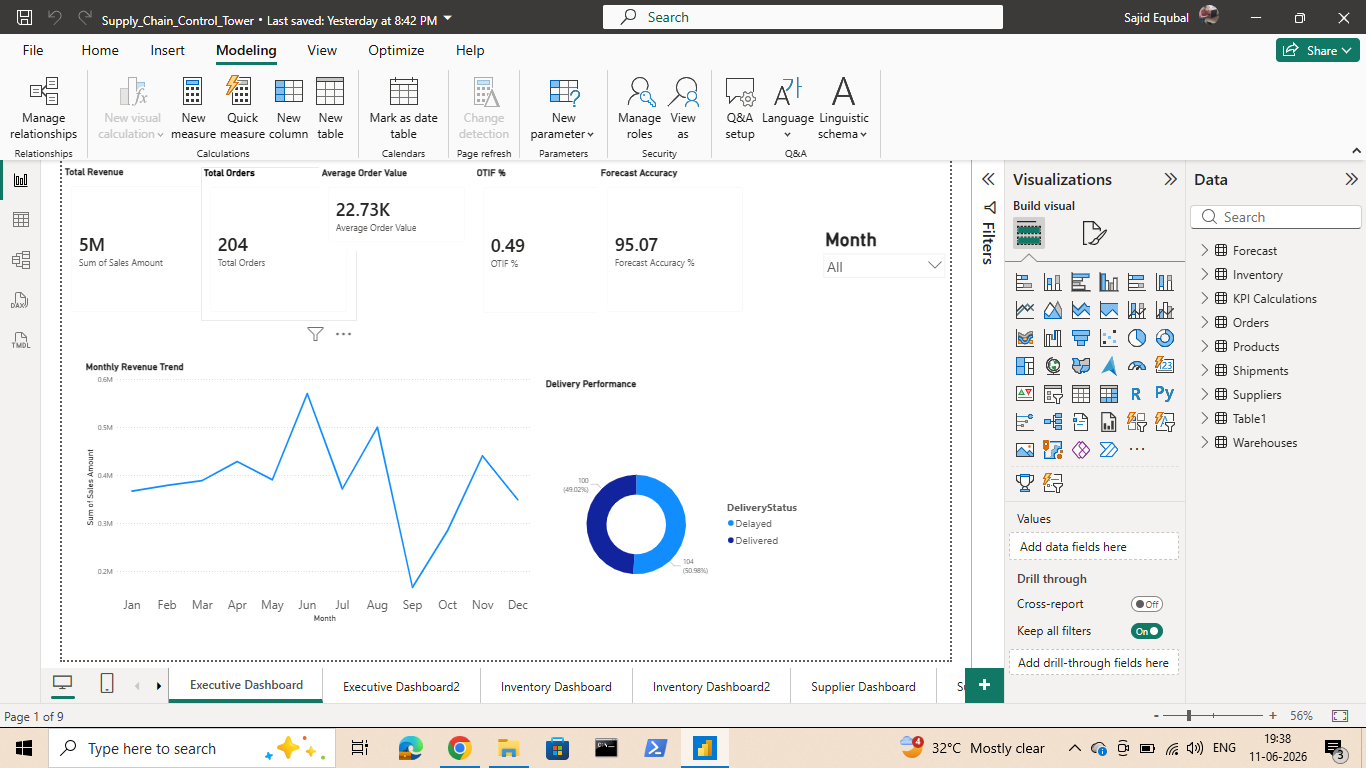

The dashboard page shown, as its layout file describes it:
{"tool":"powerbi","page":{"name":"Executive Dashboard ","canvas":[1600,900],"ordinal":0},"visuals":[{"type":"cardVisual","title":"Total Revenue","fields":{"Data":["Sum(Orders.Sales Amount)"]},"box":[0,10.1,280.5,280.5],"z":0},{"type":"cardVisual","title":"Total Orders","fields":{"Data":["Orders.Total Orders"]},"box":[250.3,11.8,280.5,278.8],"z":1000},{"type":"cardVisual","title":"Average Order Value","fields":{"Data":["Orders.Average Order Value"]},"box":[461.9,11.8,280.5,151.2],"z":2000},{"type":"cardVisual","title":"OTIF %","fields":{"Data":["Orders.OTIF %"]},"box":[742.5,11.8,278.8,280.5],"z":3000},{"type":"cardVisual","title":"Forecast Accuracy","fields":{"Data":["Forecast.Forecast Accuracy %"]},"box":[964.2,11.8,278.8,278.8],"z":4000},{"type":"lineChart","title":"Monthly Revenue Trend","fields":{"Category":["Orders.Month"],"Y":["Sum(Orders.Sales Amount)"]},"box":[37.8,361.2,812.6,476.6],"z":5000},{"type":"donutChart","title":"Delivery Performance","fields":{"Category":["Orders.DeliveryStatus"],"Y":["CountNonNull(Orders.Order ID)"]},"box":[865.1,392.7,476.6,508.1],"z":6000},{"type":"slicer","fields":{"Values":["Orders.Month"]},"box":[1360.6,119.7,239.4,130.2],"z":7000}]}

Visuals, with their boxes on the page's 1600x900 design canvas (x1, y1, x2, y2). These are canvas units, not pixel positions in the 1366x768 screenshot, which may show the page scaled, cropped or inside an application window:
"Total Revenue" cardVisual: crop(0, 10, 280, 291)
"Total Orders" cardVisual: crop(250, 12, 531, 291)
"Average Order Value" cardVisual: crop(462, 12, 742, 163)
"OTIF %" cardVisual: crop(742, 12, 1021, 292)
"Forecast Accuracy" cardVisual: crop(964, 12, 1243, 291)
"Monthly Revenue Trend" lineChart: crop(38, 361, 850, 838)
"Delivery Performance" donutChart: crop(865, 393, 1342, 901)
slicer - Orders.Month: crop(1361, 120, 1600, 250)
